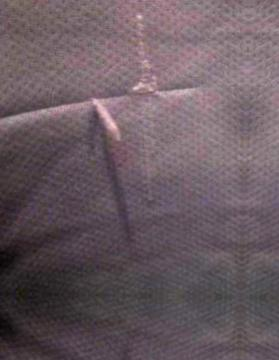snag: (81, 91, 128, 153)
